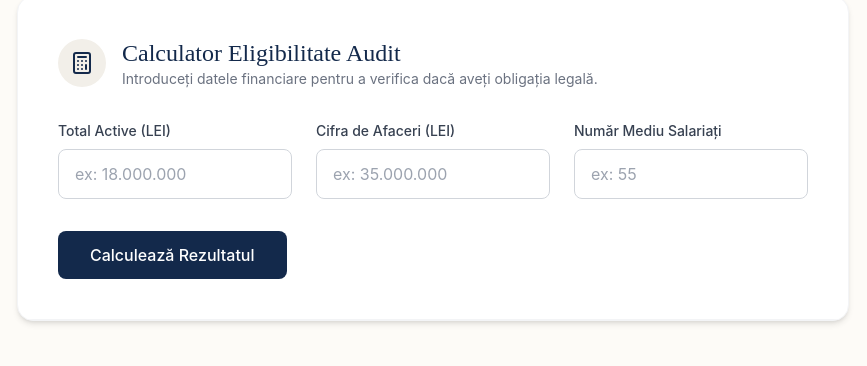
Test: AuditCalculator component › shows validation errors for empty fields
The width and height of the screenshot is (867, 366).
Click the button "Calculează Rezultatul".
click(172, 255)  # box [58,231,286,279]
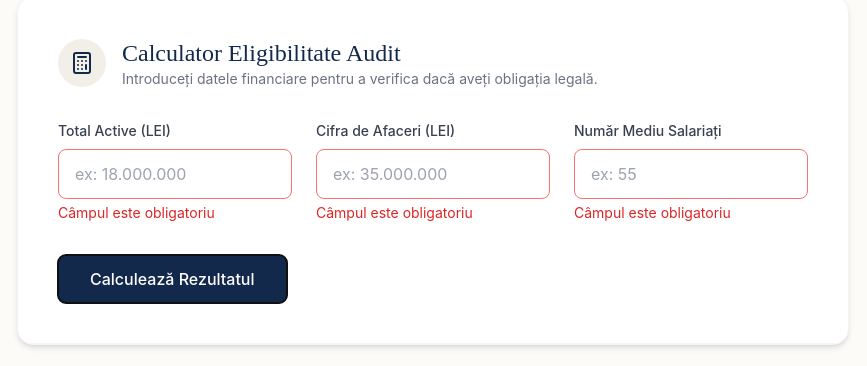
expect the text "Câmpul este obligatoriu" is shown 3 times: met, box [58,204,215,221]; [316,204,473,221]; [574,204,731,221]
